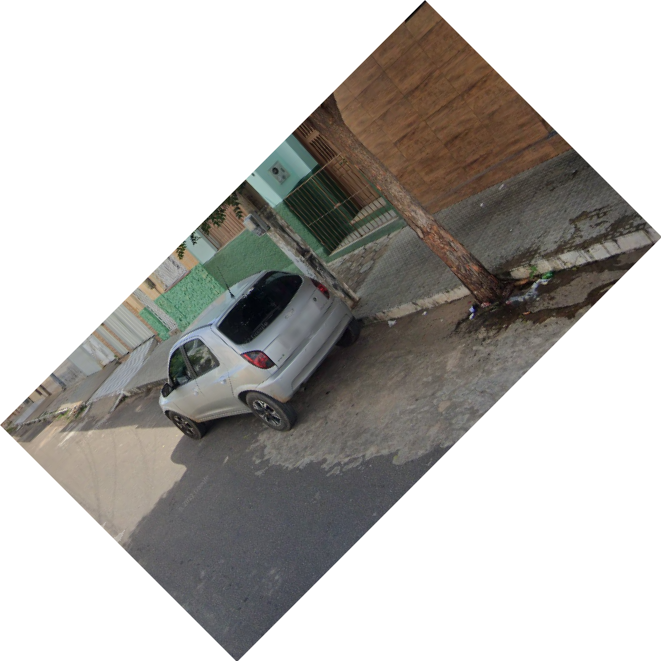car: (154, 263, 363, 463)
